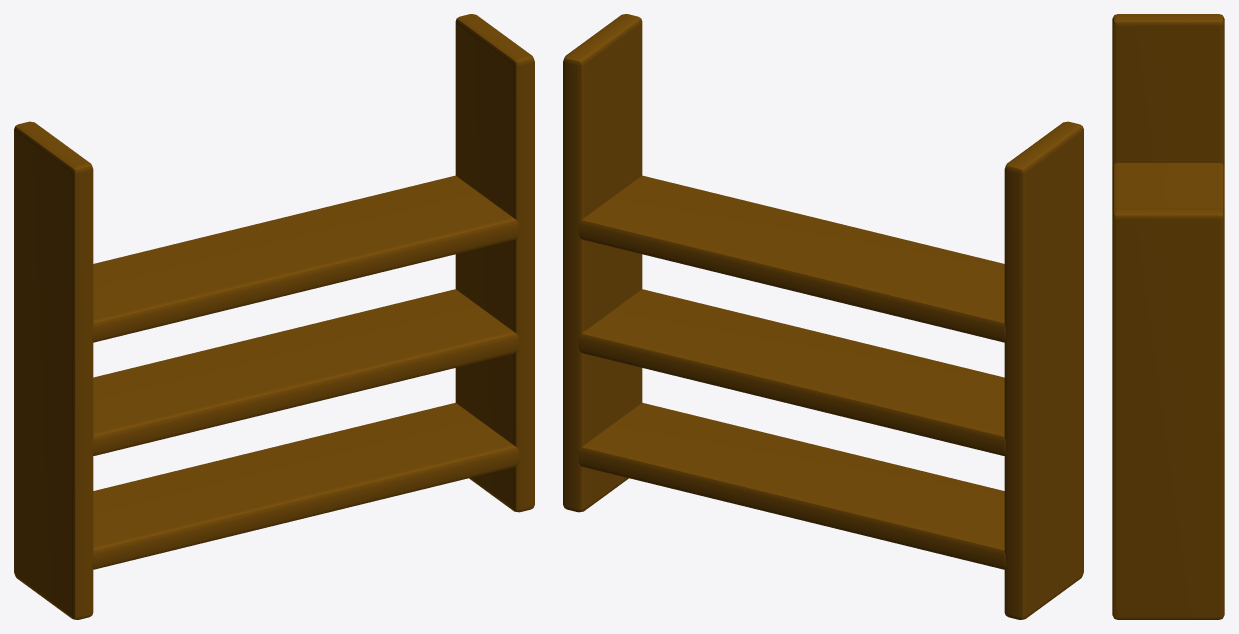
Rendered from BookShelf.fbx.
3 views of the same model, side by side, from view 1: azimuth 30°, elevation 25°; view 2: azimuth 150°, elevation 25°; view 3: azimuth 270°, elevation 25° (orthographic). The views are drawn at different scales.
Visible parts, largest first — view 1: Shelf; view 2: Shelf; view 3: Shelf.
Boxes of the visible parts, left/top/right/bottom form: Shelf: left=14, top=14, right=534, bottom=619; Shelf: left=563, top=14, right=1083, bottom=619; Shelf: left=1112, top=14, right=1224, bottom=619.
Bounding box in the file's own units: 8.54 × 8 × 2.
